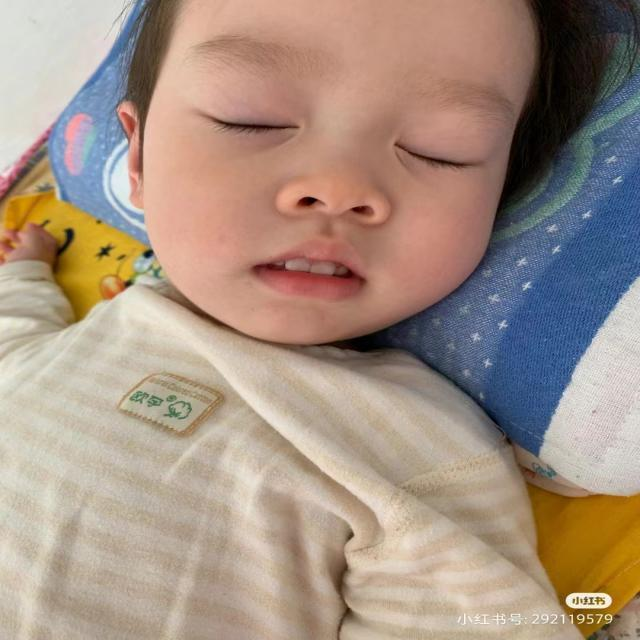child: (100, 6, 617, 370)
